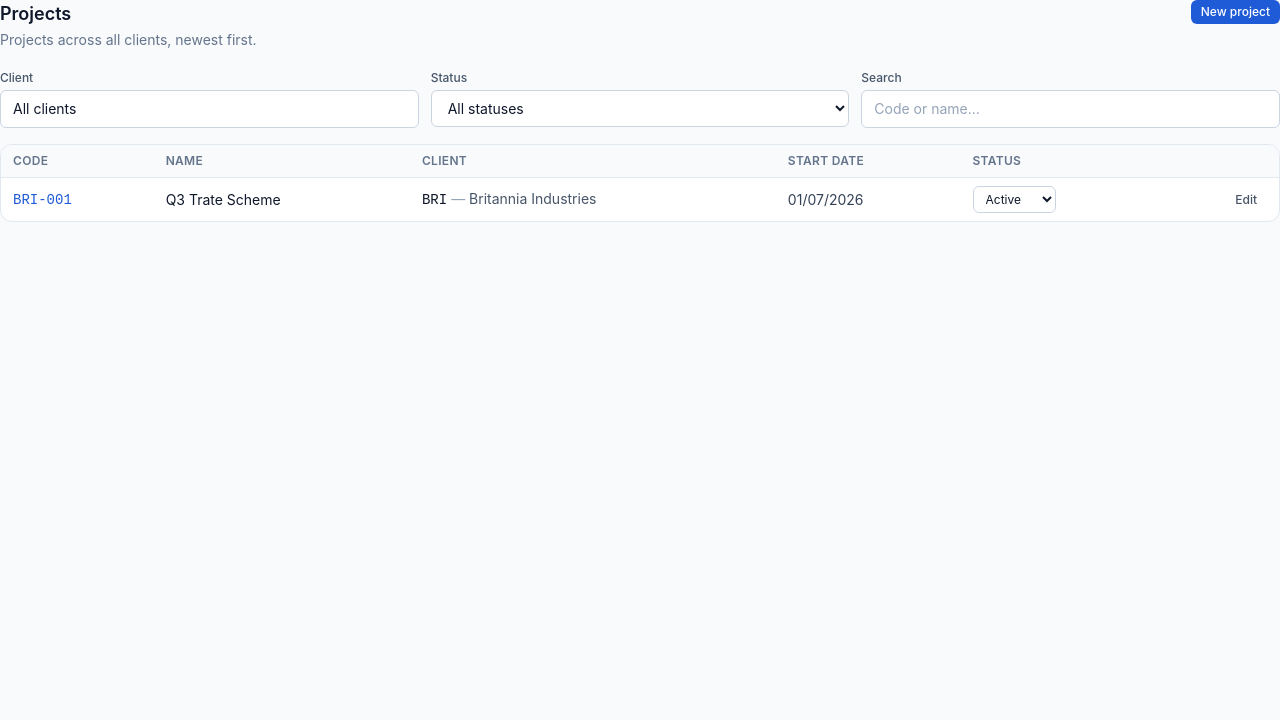
Scenario: ProjectsList — edit project (MANAGE) › edits a project name via the modal and PATCHes only editable fields
The width and height of the screenshot is (1280, 720).
Open the edit modal from the row action.
Click the button with aria-label "edit BRI-001". click: (1246, 200)
box: [1225,188,1267,212]
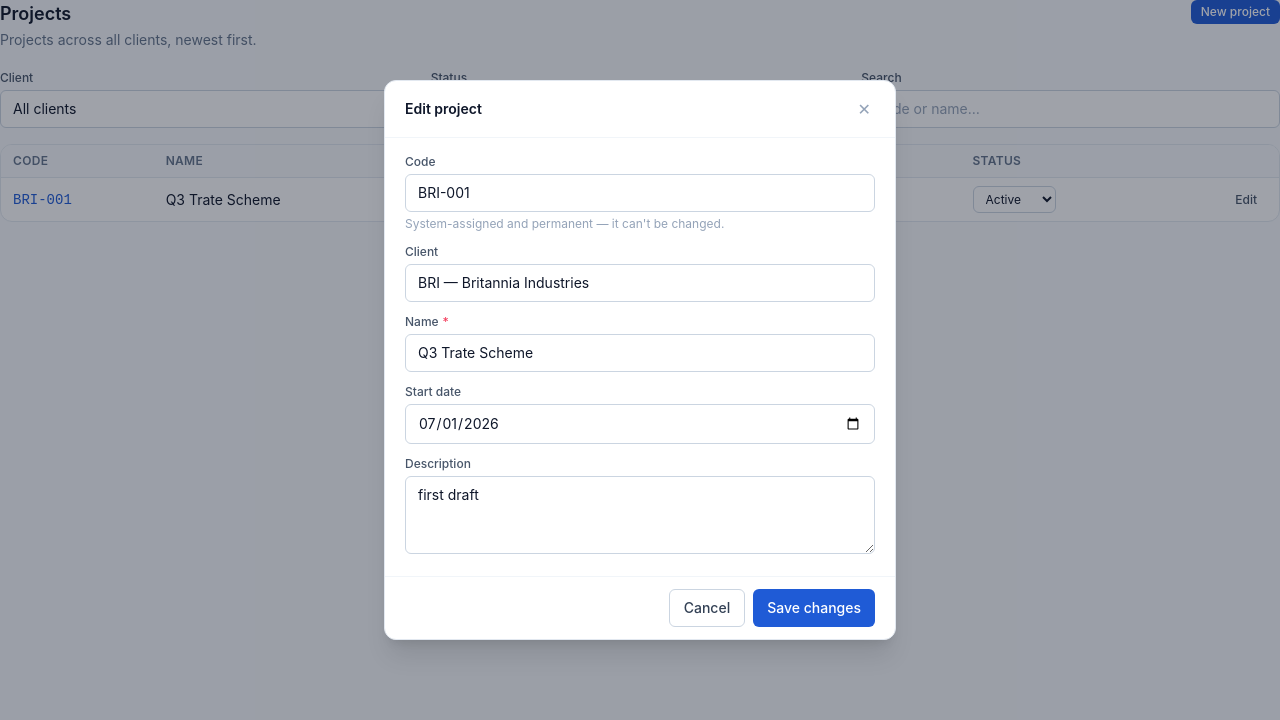
Result: the field labelled "Code System-assigned and permanent — it can't be changed." holds "BRI-001" at [405,174,875,212]
Fix the name typo and save.
Replace the text in the field labelled "Name *" with "Q3 Trade Scheme". click: (640, 353)
box: [405,334,875,372]
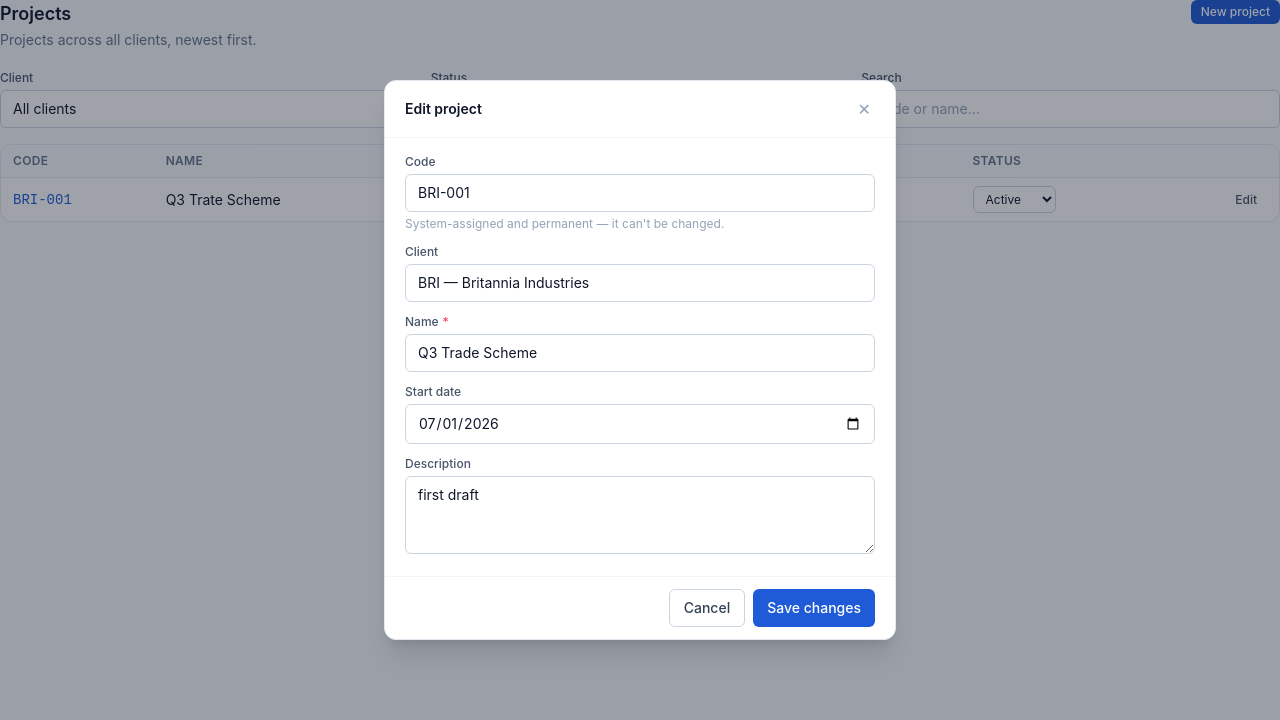
Click the button "Save changes". click: (814, 608)
box: [753,589,875,627]
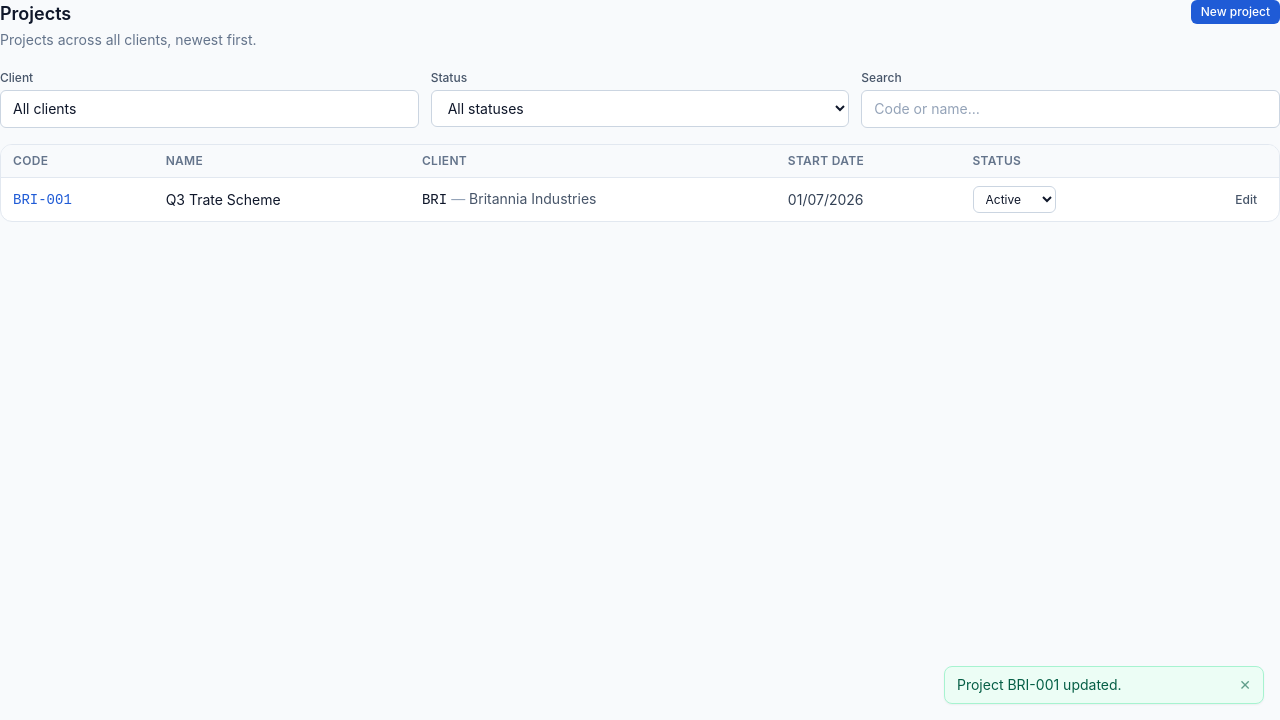
Result: the dialog is gone
